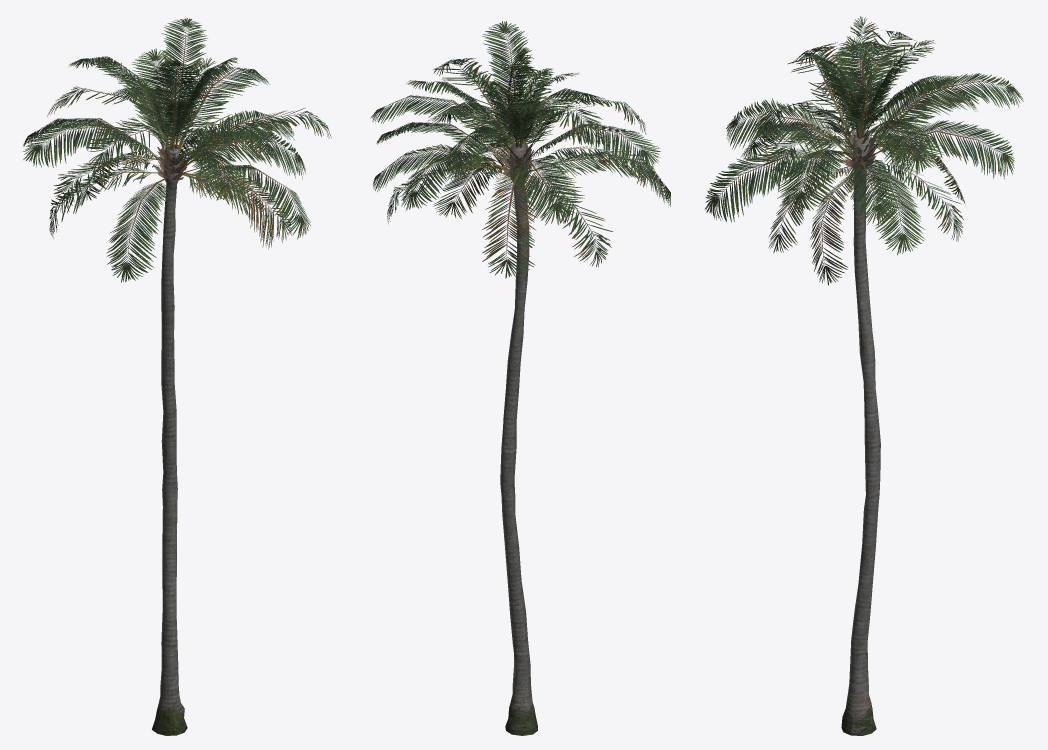
The model's file is MB_Palm_Miami_01.fbx.
3 renders of one model, left to right at view 1: azimuth 30°, elevation 25°; view 2: azimuth 150°, elevation 25°; view 3: azimuth 270°, elevation 25°, orthographic. The views are drawn at different scales.
Visible parts, largest first — view 1: MB_Palm_Miami_01_LOD0; view 2: MB_Palm_Miami_01_LOD0; view 3: MB_Palm_Miami_01_LOD0.
Boxes of the visible parts, x1=… form: MB_Palm_Miami_01_LOD0: x1=23, y1=18, x2=331, y2=735; MB_Palm_Miami_01_LOD0: x1=371, y1=21, x2=670, y2=735; MB_Palm_Miami_01_LOD0: x1=704, y1=16, x2=1023, y2=735.
Size of what is drawn, in the model's own units: 552 by 1250 by 543.
